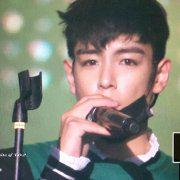WRONG: (70, 44, 163, 137)
